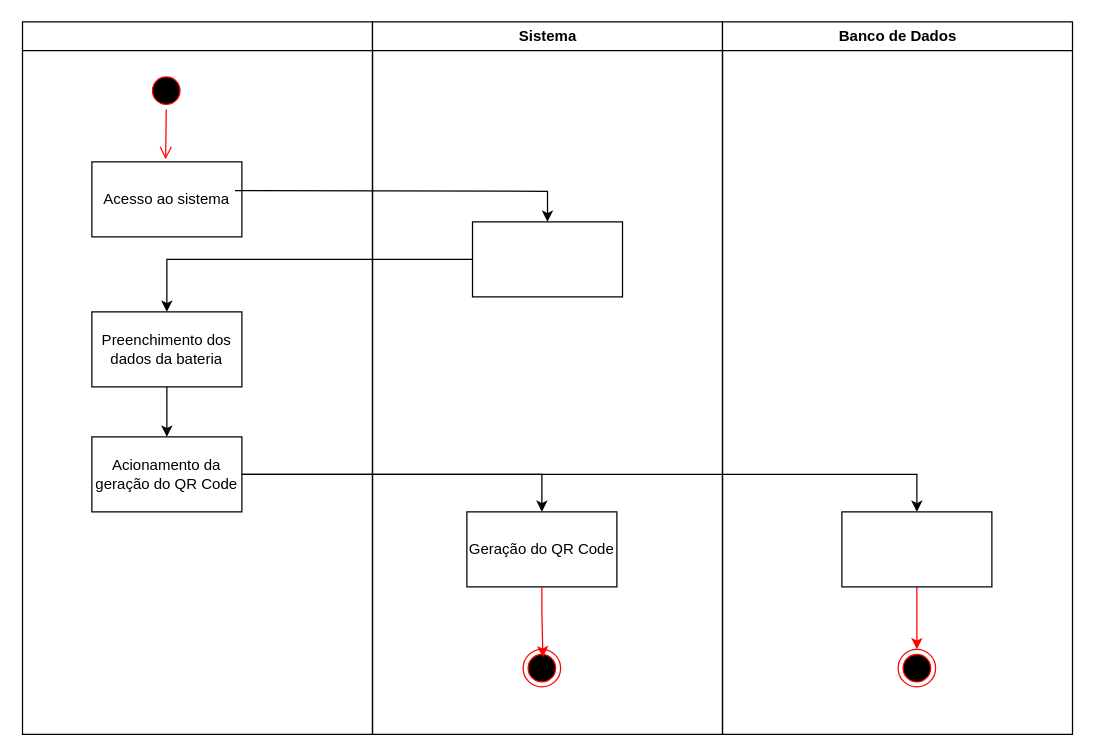
This 1094x756 diagram has some shape labels left out. Here are the shapes that lost their labels. From the top down, the box of each, then its label:
(471, 221, 622, 297): Iniciação do formulario
(21, 21, 372, 734): Usuario
(841, 511, 992, 587): Salvamento dos dados
